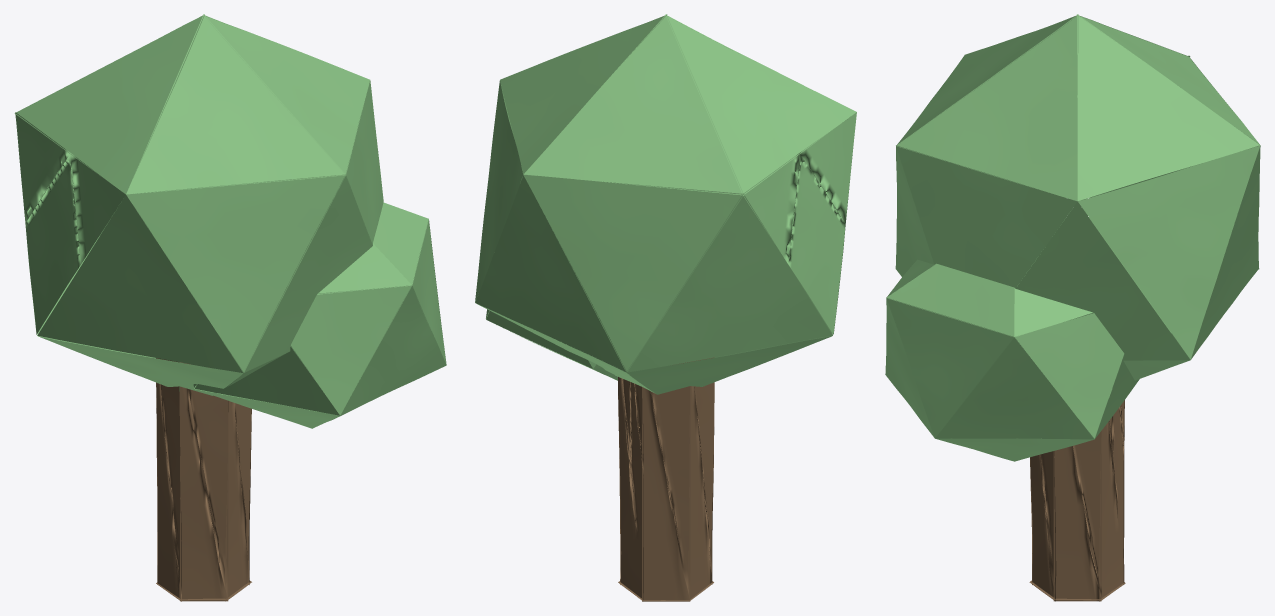
Rendered from oak.glb.
The picture shows the model from 3 angles, left to right: view 1: azimuth 30°, elevation 25°; view 2: azimuth 150°, elevation 25°; view 3: azimuth 270°, elevation 25°; orthographic projection.
Parts seen in each view (by area): view 1: OakTrunk; view 2: OakTrunk; view 3: OakTrunk.
Part boxes in pixels (x1,y1,x2,y2): OakTrunk: [14, 14, 446, 601]; OakTrunk: [475, 14, 856, 601]; OakTrunk: [885, 14, 1260, 601].
Bounding box in the file's own units: 1.12 × 1.7 × 1.01.
